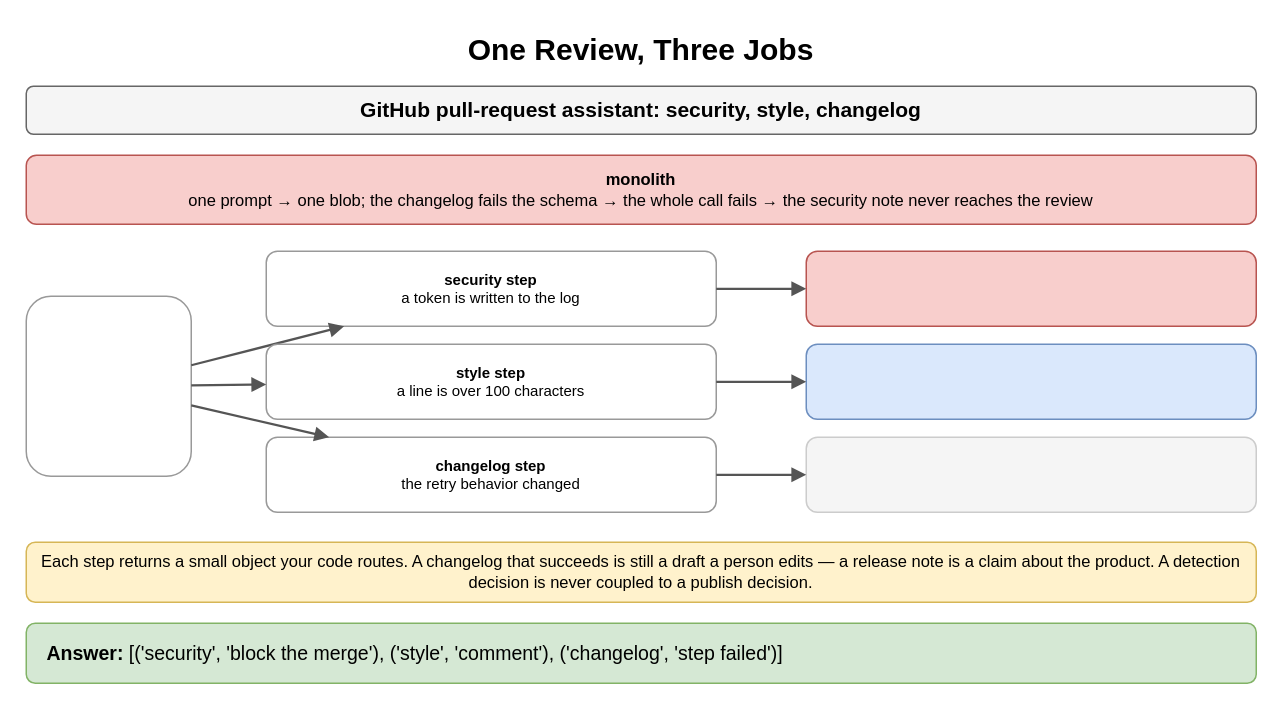
Image size: 1283x710. Some labels were removed from this diagram. Each missing label, with the box of its shape:
block the merge: (805, 250, 1256, 326)
review comment: (805, 343, 1256, 419)
schema failed → log the step: (805, 436, 1256, 512)
the diff: (25, 295, 191, 476)
